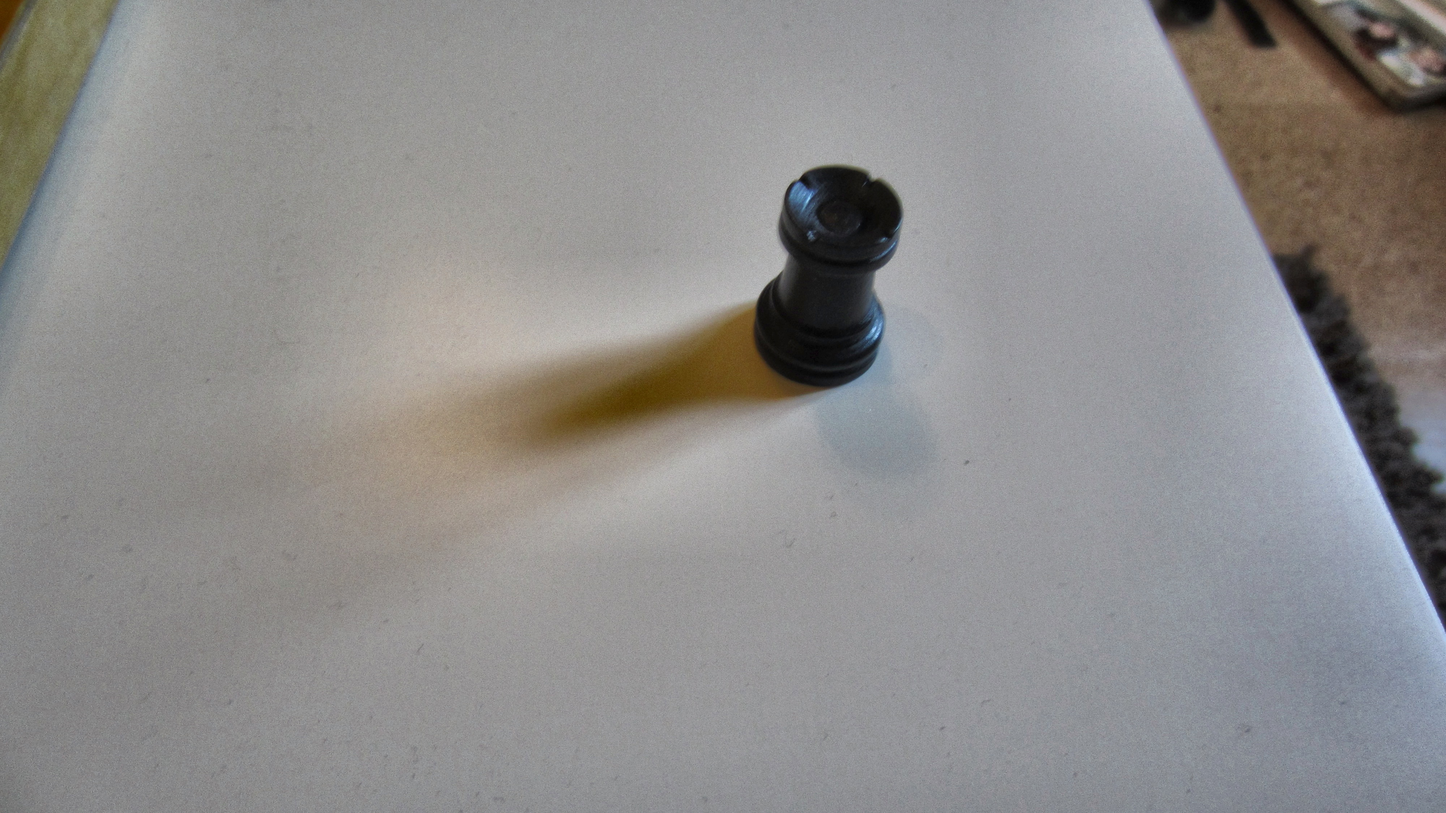black-rook: (750, 162, 910, 391)
